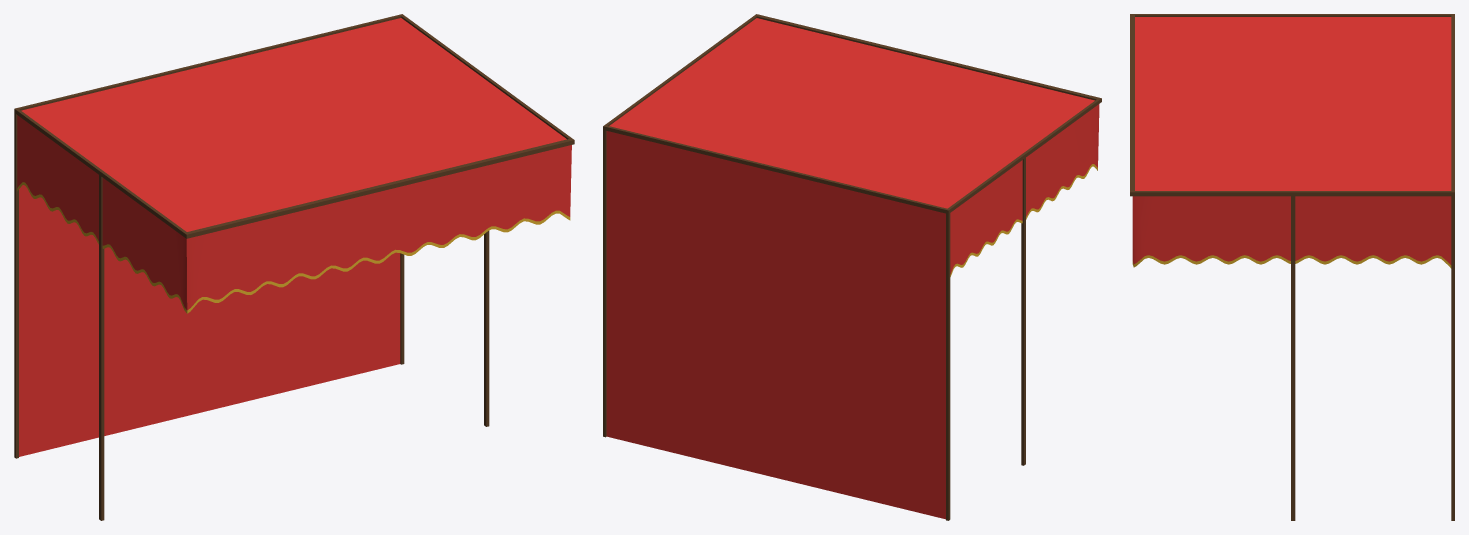
File: paraeta2.fbx
3 renders of one model, left to right at view 1: azimuth 30°, elevation 25°; view 2: azimuth 150°, elevation 25°; view 3: azimuth 270°, elevation 25°, orthographic. The views are drawn at different scales.
Parts seen in each view (by area): view 1: paraeta2, Cube.006; view 2: paraeta2, Cube.006; view 3: paraeta2, Cube.006.
Boxes of the visible parts, x1,y1,x2,y2 form: paraeta2: (17, 18, 571, 456); Cube.006: (14, 14, 574, 520); paraeta2: (606, 18, 1099, 519); Cube.006: (603, 14, 1101, 520); paraeta2: (1132, 17, 1451, 268); Cube.006: (1130, 14, 1454, 520).
Size of the model in its own units: 284 by 244 by 219.
